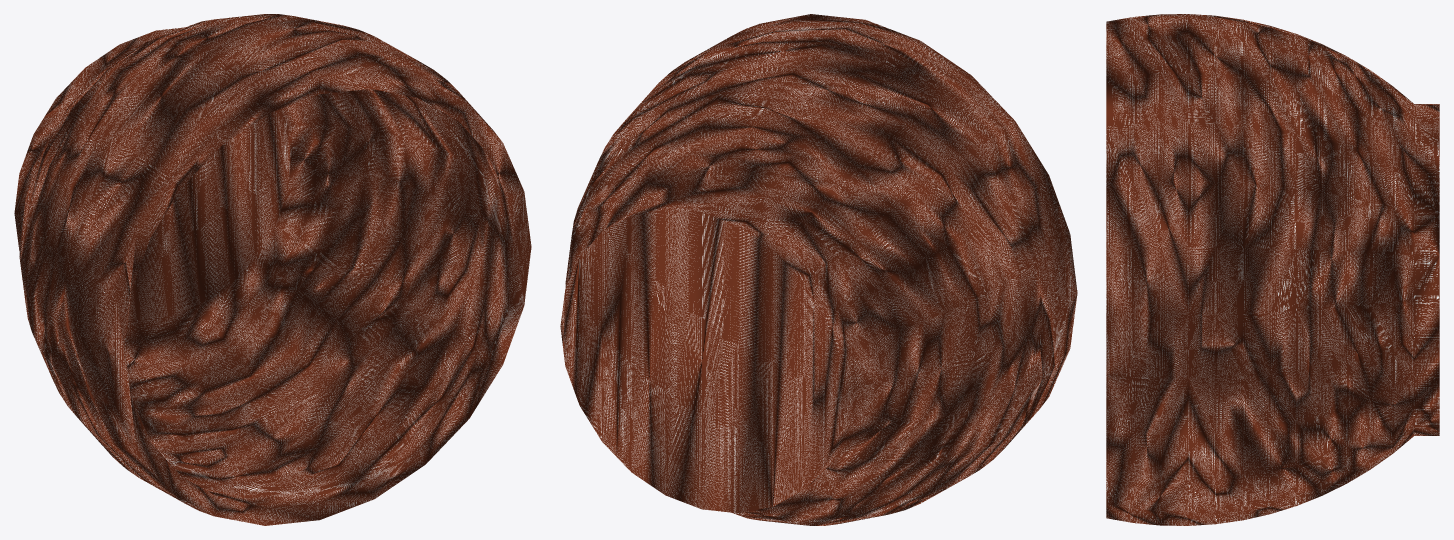
Rendered from model_align.obj.
The picture shows the model from 3 angles, left to right: view 1: azimuth 30°, elevation 25°; view 2: azimuth 150°, elevation 25°; view 3: azimuth 270°, elevation 25°; orthographic projection.
Bounding box in the file's own units: 0.156 × 0.156 × 0.1013.
